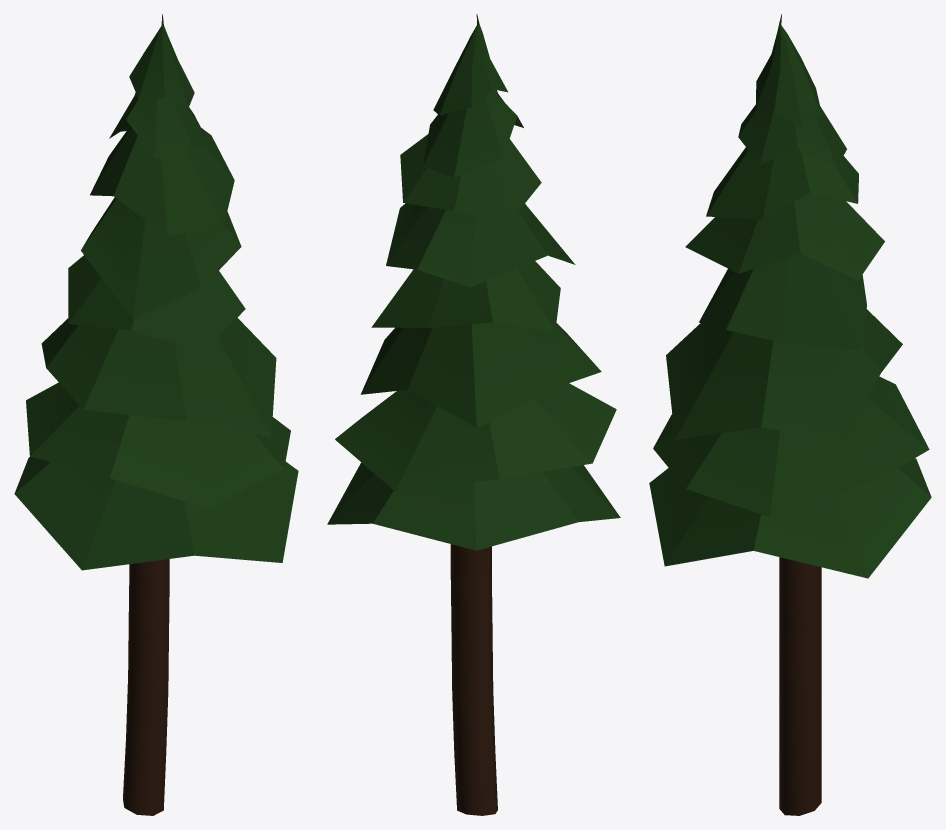
Rendered from PineTree01_EM.fbx.
The picture shows the model from 3 angles, left to right: view 1: azimuth 30°, elevation 25°; view 2: azimuth 150°, elevation 25°; view 3: azimuth 270°, elevation 25°; orthographic projection.
Parts seen in each view (by area): view 1: PineTree01_EM; view 2: PineTree01_EM; view 3: PineTree01_EM.
Part boxes in pixels (x1,y1,x2,y2): PineTree01_EM: (14, 14, 298, 815); PineTree01_EM: (327, 14, 620, 815); PineTree01_EM: (649, 14, 931, 815).
Bounding box in the file's own units: 392 × 1206 × 386.
